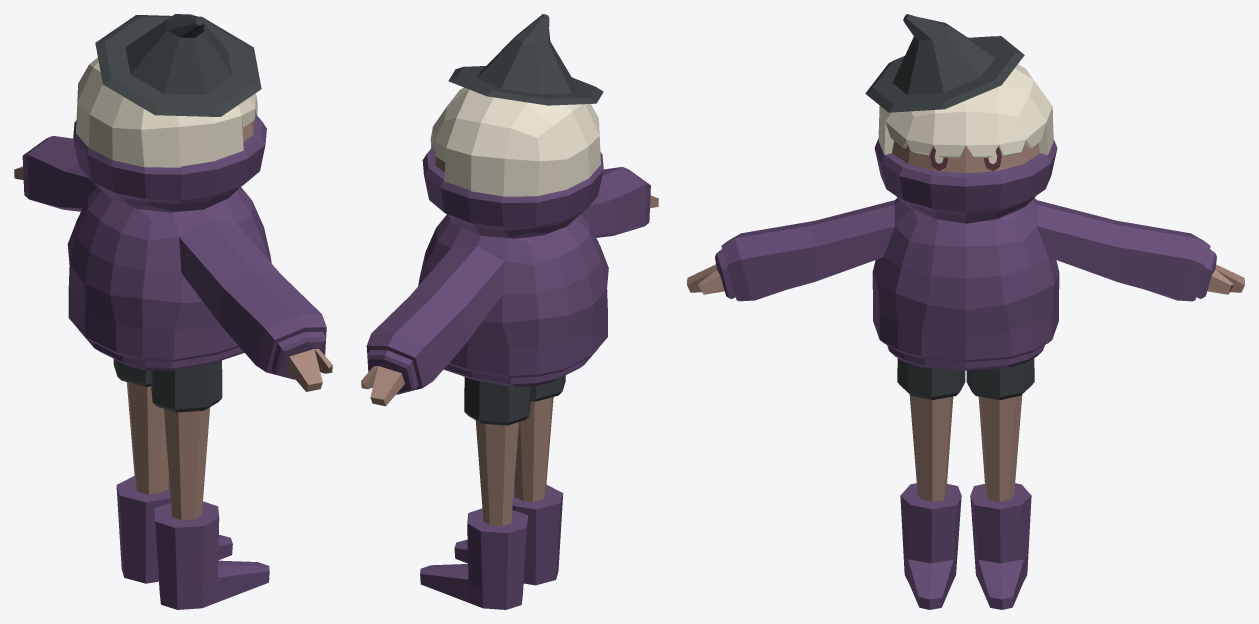
File: protagModel.fbx
The picture shows the model from 3 angles, left to right: view 1: azimuth 30°, elevation 25°; view 2: azimuth 150°, elevation 25°; view 3: azimuth 270°, elevation 25°; orthographic projection. The views are drawn at different scales.
Parts seen in each view (by area): view 1: Cube.001; view 2: Cube.001; view 3: Cube.001.
Part boxes in pixels (bbox=[...]): Cube.001: bbox=[14, 14, 332, 609]; Cube.001: bbox=[361, 14, 658, 609]; Cube.001: bbox=[687, 14, 1244, 609].
Bounding box in the file's own units: 197 × 651 × 589.
